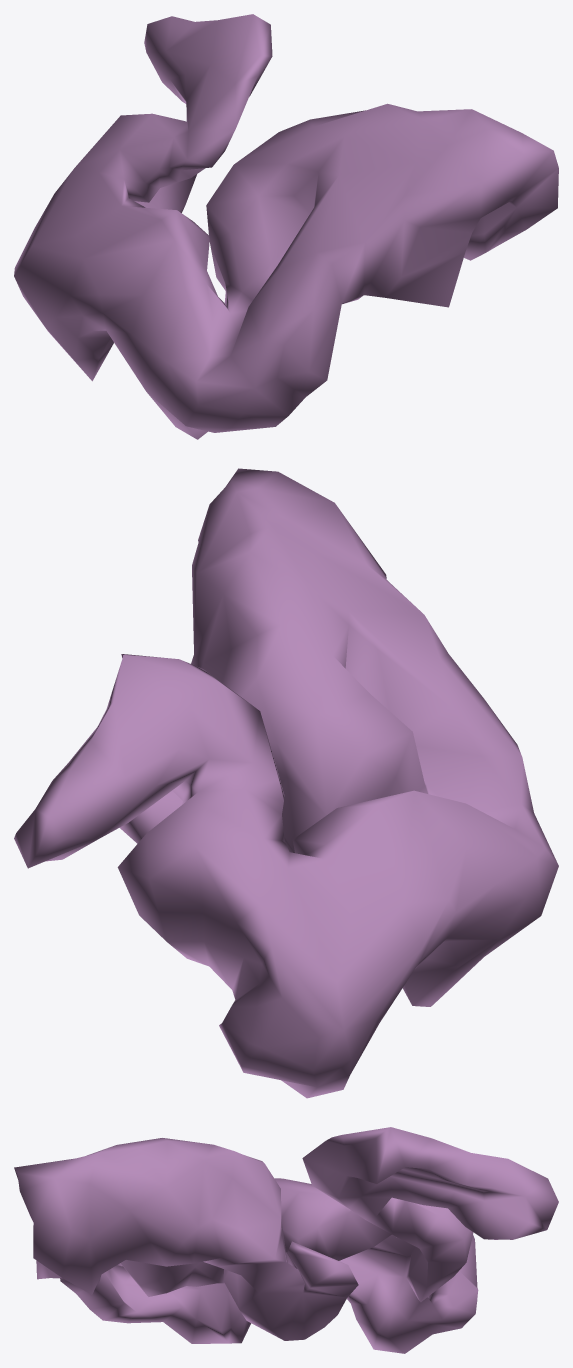
The picture shows the model from 3 angles, top to bottom: view 1: azimuth 30°, elevation 25°; view 2: azimuth 150°, elevation 25°; view 3: azimuth 270°, elevation 25°; orthographic projection. The views are drawn at different scales.
Visible parts, largest first — view 1: 右侧枕外侧回（枕中回）; view 2: 右侧枕外侧回（枕中回）; view 3: 右侧枕外侧回（枕中回）.
Part boxes in pixels (left/top/right/bottom): 右侧枕外侧回（枕中回）: left=14, top=14, right=558, bottom=439; 右侧枕外侧回（枕中回）: left=14, top=468, right=558, bottom=1098; 右侧枕外侧回（枕中回）: left=14, top=1127, right=558, bottom=1353.
Bounding box in the file's own units: 0.0442 × 0.0407 × 0.0662.
